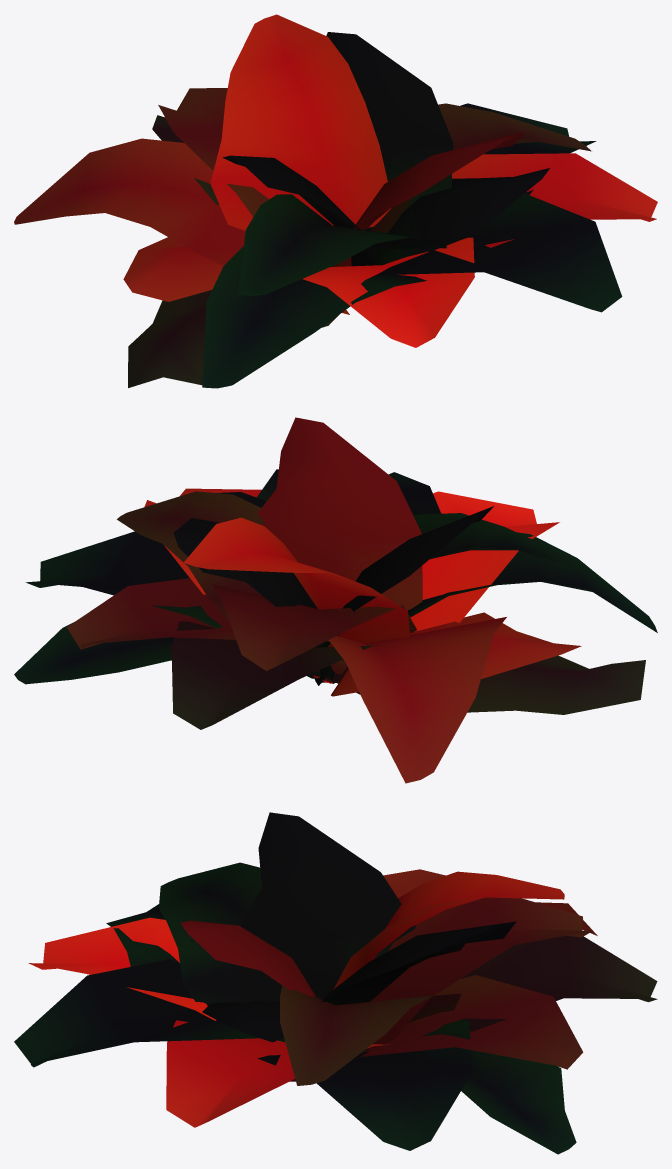
Rendered from SM Fern.fbx.
3 views of the same model, one above another, from view 1: azimuth 30°, elevation 25°; view 2: azimuth 150°, elevation 25°; view 3: azimuth 270°, elevation 25° (orthographic). The views are drawn at different scales.
Parts seen in each view (by area): view 1: Fern; view 2: Fern; view 3: Fern.
Part boxes in pixels (x1,y1,x2,y2): Fern: (14, 14, 657, 388); Fern: (14, 417, 657, 783); Fern: (14, 812, 657, 1154).
Bounding box in the file's own units: 610 × 604 × 223.
